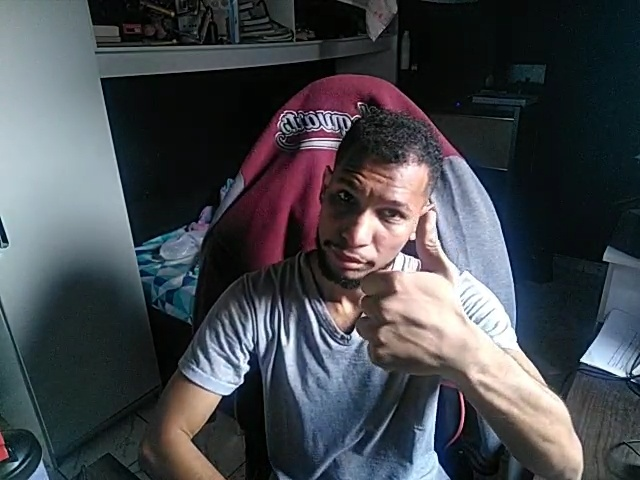sim: (360, 210, 469, 383)
